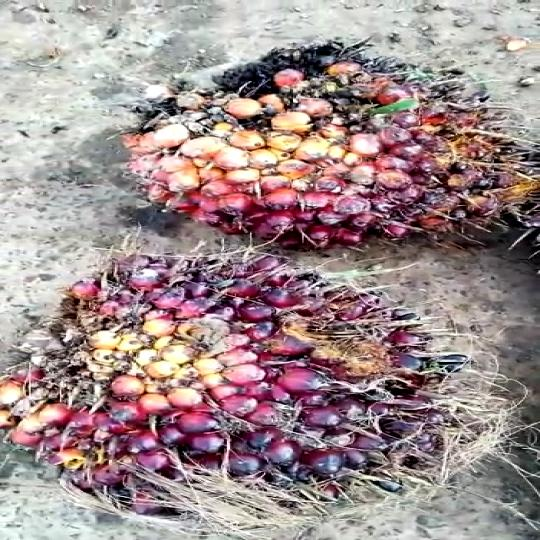masak: (0, 238, 540, 532), (87, 39, 540, 252)
